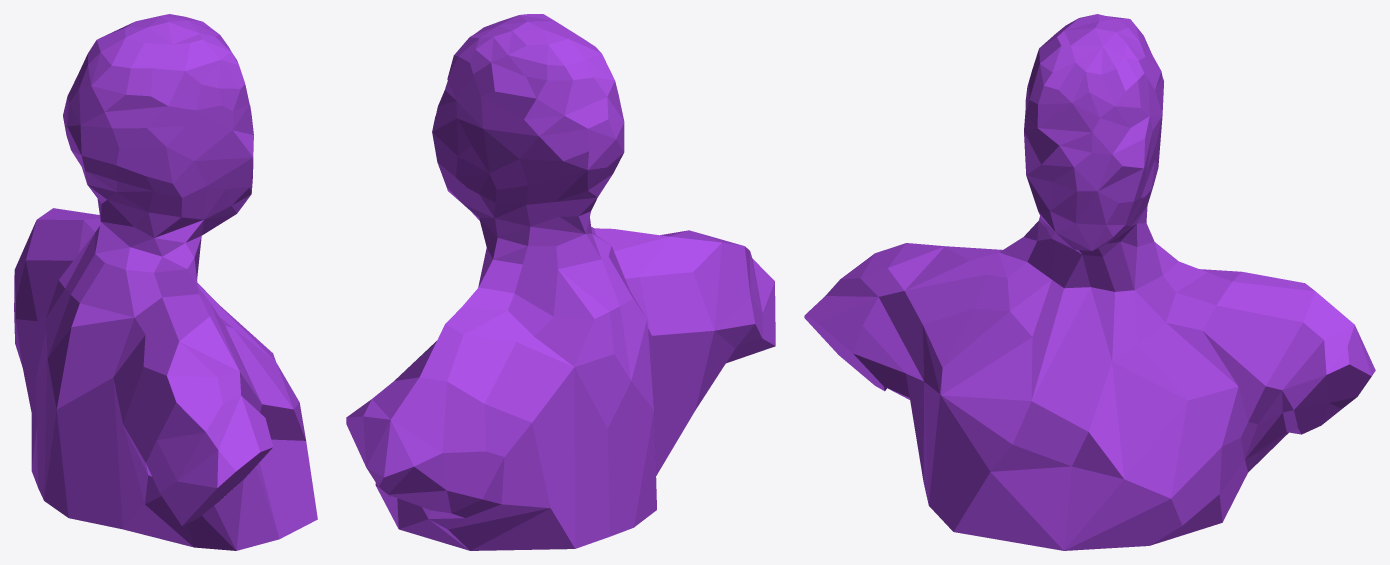
File: Statue.010.fbx
3 views of the same model, side by side, from view 1: azimuth 30°, elevation 25°; view 2: azimuth 150°, elevation 25°; view 3: azimuth 270°, elevation 25° (orthographic). The views are drawn at different scales.
Parts seen in each view (by area): view 1: Statue.010; view 2: Statue.010; view 3: Statue.010.
Part boxes in pixels (x1,y1,x2,y2): Statue.010: (14, 14, 317, 550); Statue.010: (346, 14, 775, 550); Statue.010: (804, 14, 1375, 550).
Size of the model in its own units: 184 by 345 by 383.
